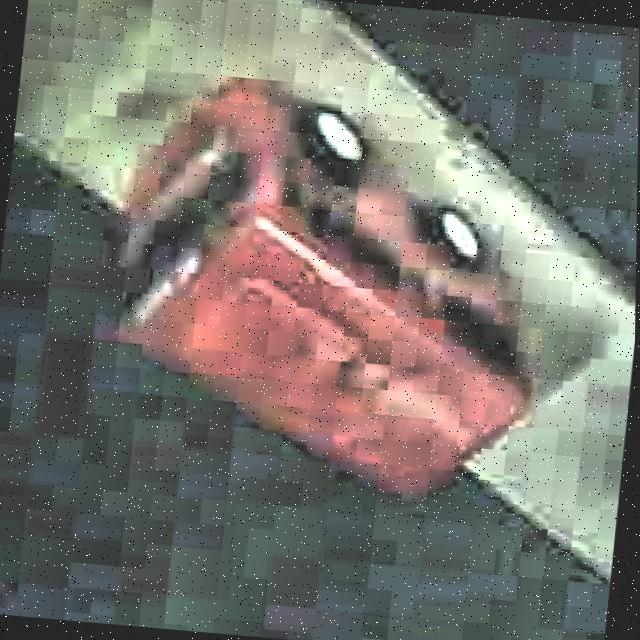bus: (99, 66, 569, 512)
